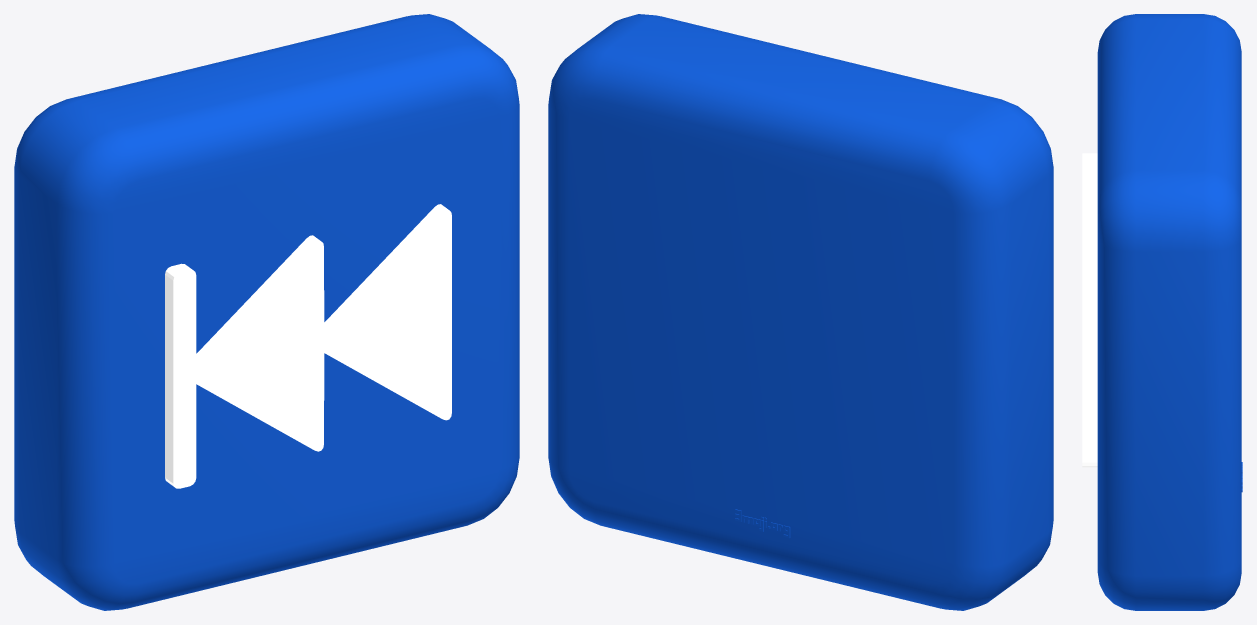
The model's file is last_track_button.gltf.
The picture shows the model from 3 angles, left to right: view 1: azimuth 30°, elevation 25°; view 2: azimuth 150°, elevation 25°; view 3: azimuth 270°, elevation 25°; orthographic projection. The views are drawn at different scales.
Visible parts, largest first — view 1: Cube.6425; view 2: Cube.6425; view 3: Cube.6425.
Boxes of the visible parts, x1,y1,x2,y2 form: Cube.6425: [14, 14, 519, 610]; Cube.6425: [548, 14, 1053, 610]; Cube.6425: [1082, 14, 1242, 610].
Size of the model in its own units: 2.2 by 2.2 by 0.7337.
1 material, 1 textured.
